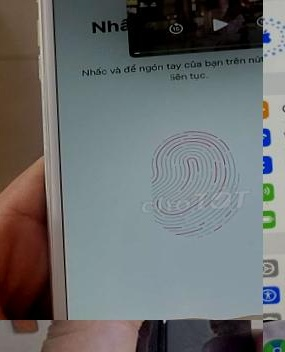scratch: (155, 320, 172, 330)
